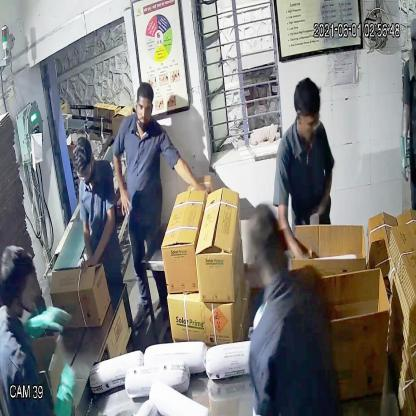goggles: (74, 160, 95, 186)
